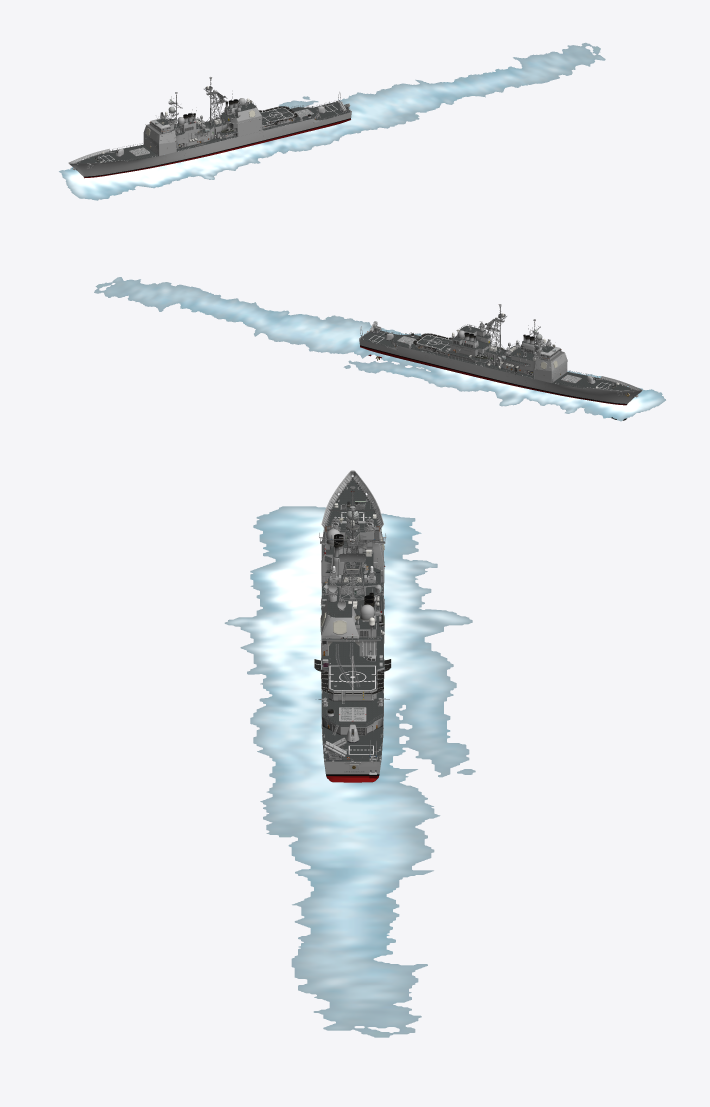
3 views of the same model, one above another, from view 1: azimuth 30°, elevation 25°; view 2: azimuth 150°, elevation 25°; view 3: azimuth 270°, elevation 25° (orthographic). The views are drawn at different scales.
Visible parts, largest first — view 1: Wake, main-model, hull, main-deck, railing; view 2: Wake, main-model, hull, main-deck, railing; view 3: Wake, main-model, main-deck, hull, flight-deck-large-texture, railing.
Boxes of the visible parts, x1=… form: Wake: x1=59, y1=42, x2=605, y2=200; main-model: x1=79, y1=77, x2=351, y2=162; hull: x1=68, y1=110, x2=351, y2=178; main-deck: x1=76, y1=102, x2=349, y2=163; railing: x1=112, y1=87, x2=350, y2=160; Wake: x1=94, y1=277, x2=665, y2=421; main-model: x1=359, y1=304, x2=631, y2=389; hull: x1=359, y1=339, x2=642, y2=420; main-deck: x1=361, y1=326, x2=634, y2=391; railing: x1=361, y1=315, x2=597, y2=387; Wake: x1=224, y1=506, x2=475, y2=1037; main-model: x1=314, y1=486, x2=391, y2=763; main-deck: x1=321, y1=479, x2=384, y2=761; hull: x1=321, y1=470, x2=383, y2=782; flight-deck-large-texture: x1=330, y1=656, x2=375, y2=689; railing: x1=320, y1=502, x2=385, y2=760.
Bounding box in the file's own units: 392 × 52.41 × 75.88.
Materials: 19 (17 with a texture image).
